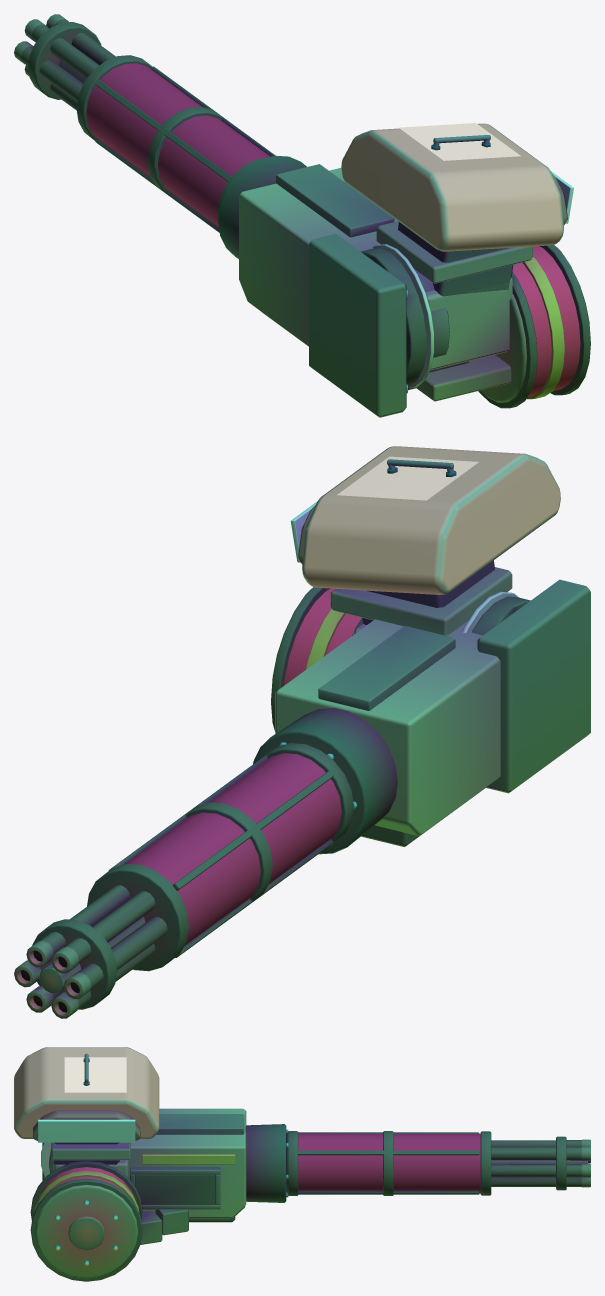
Rendered from arm_mg.glb.
3 renders of one model, top to bottom at view 1: azimuth 30°, elevation 25°; view 2: azimuth 150°, elevation 25°; view 3: azimuth 270°, elevation 25°, orthographic. The views are drawn at different scales.
Visible parts, largest first — view 1: Body__armor, Body__gunmetal, Body__dark, Body__armor_sub, Body__decal, Body__accent, Body__chrome; view 2: Body__armor, Body__gunmetal, Body__dark, Body__armor_sub, Body__decal, Body__accent; view 3: Body__dark, Body__gunmetal, Body__armor, Body__armor_sub, Body__hazard, Body__decal, Body__accent, Body__armor_oxide, Body__chrome.
Boxes of the visible parts, left/top/right/bottom form: Body__armor: left=239, top=123, right=563, bottom=370; Body__gunmetal: left=14, top=14, right=490, bottom=417; Body__dark: left=21, top=19, right=590, bottom=408; Body__armor_sub: left=376, top=221, right=589, bottom=402; Body__decal: left=399, top=123, right=520, bottom=160; Body__accent: left=522, top=257, right=564, bottom=399; Body__chrome: left=372, top=244, right=434, bottom=393; Body__armor: left=275, top=446, right=560, bottom=835; Body__gunmetal: left=14, top=459, right=590, bottom=1018; Body__dark: left=27, top=467, right=530, bottom=1009; Body__armor_sub: left=272, top=567, right=512, bottom=685; Body__decal: left=337, top=456, right=478, bottom=500; Body__accent: left=305, top=608, right=345, bottom=669; Body__dark: left=30, top=1058, right=581, bottom=1281; Body__gunmetal: left=42, top=1053, right=590, bottom=1250; Body__armor: left=14, top=1047, right=246, bottom=1218; Body__armor_sub: left=35, top=1142, right=137, bottom=1278; Body__hazard: left=38, top=1119, right=135, bottom=1142; Body__decal: left=64, top=1057, right=126, bottom=1092; Body__accent: left=34, top=1154, right=235, bottom=1212; Body__armor_oxide: left=33, top=1110, right=140, bottom=1140; Body__chrome: left=41, top=1129, right=288, bottom=1266.
Bounding box in the file's own units: 0.7575 × 0.9458 × 2.6.
